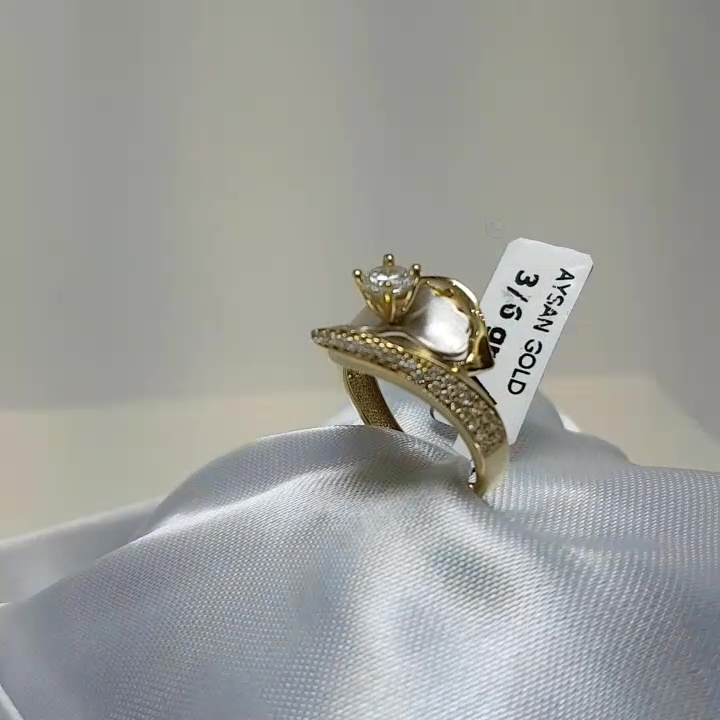Ring 6: (293, 230, 526, 512)
